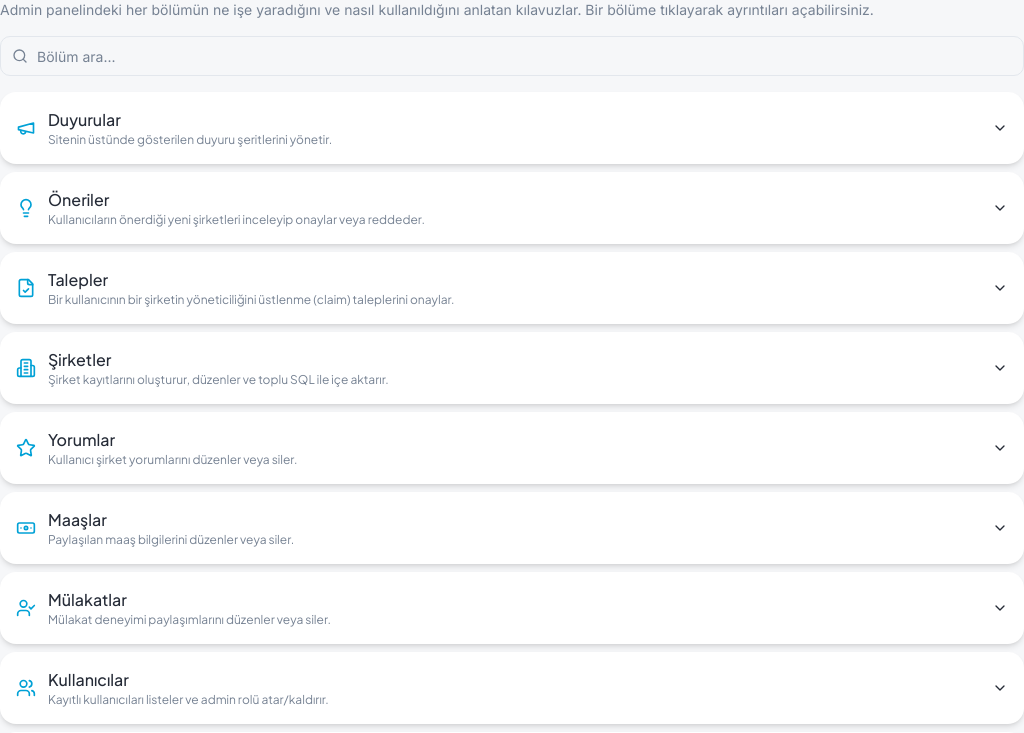
AdminGuides › shows an empty state when nothing matches
In the field named "Kılavuzlarda ara": [512, 56] box [0,36,1023,76], type "zzzznomatch"
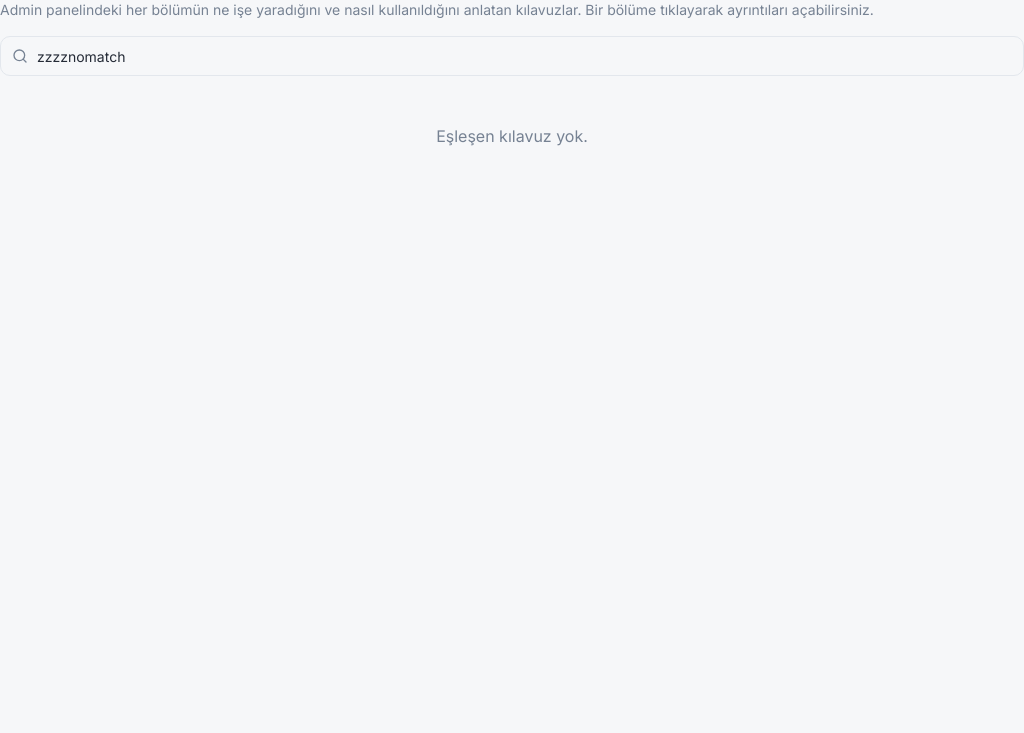
Expected: the text "Eşleşen kılavuz yok." is shown, [436,126,588,146]
